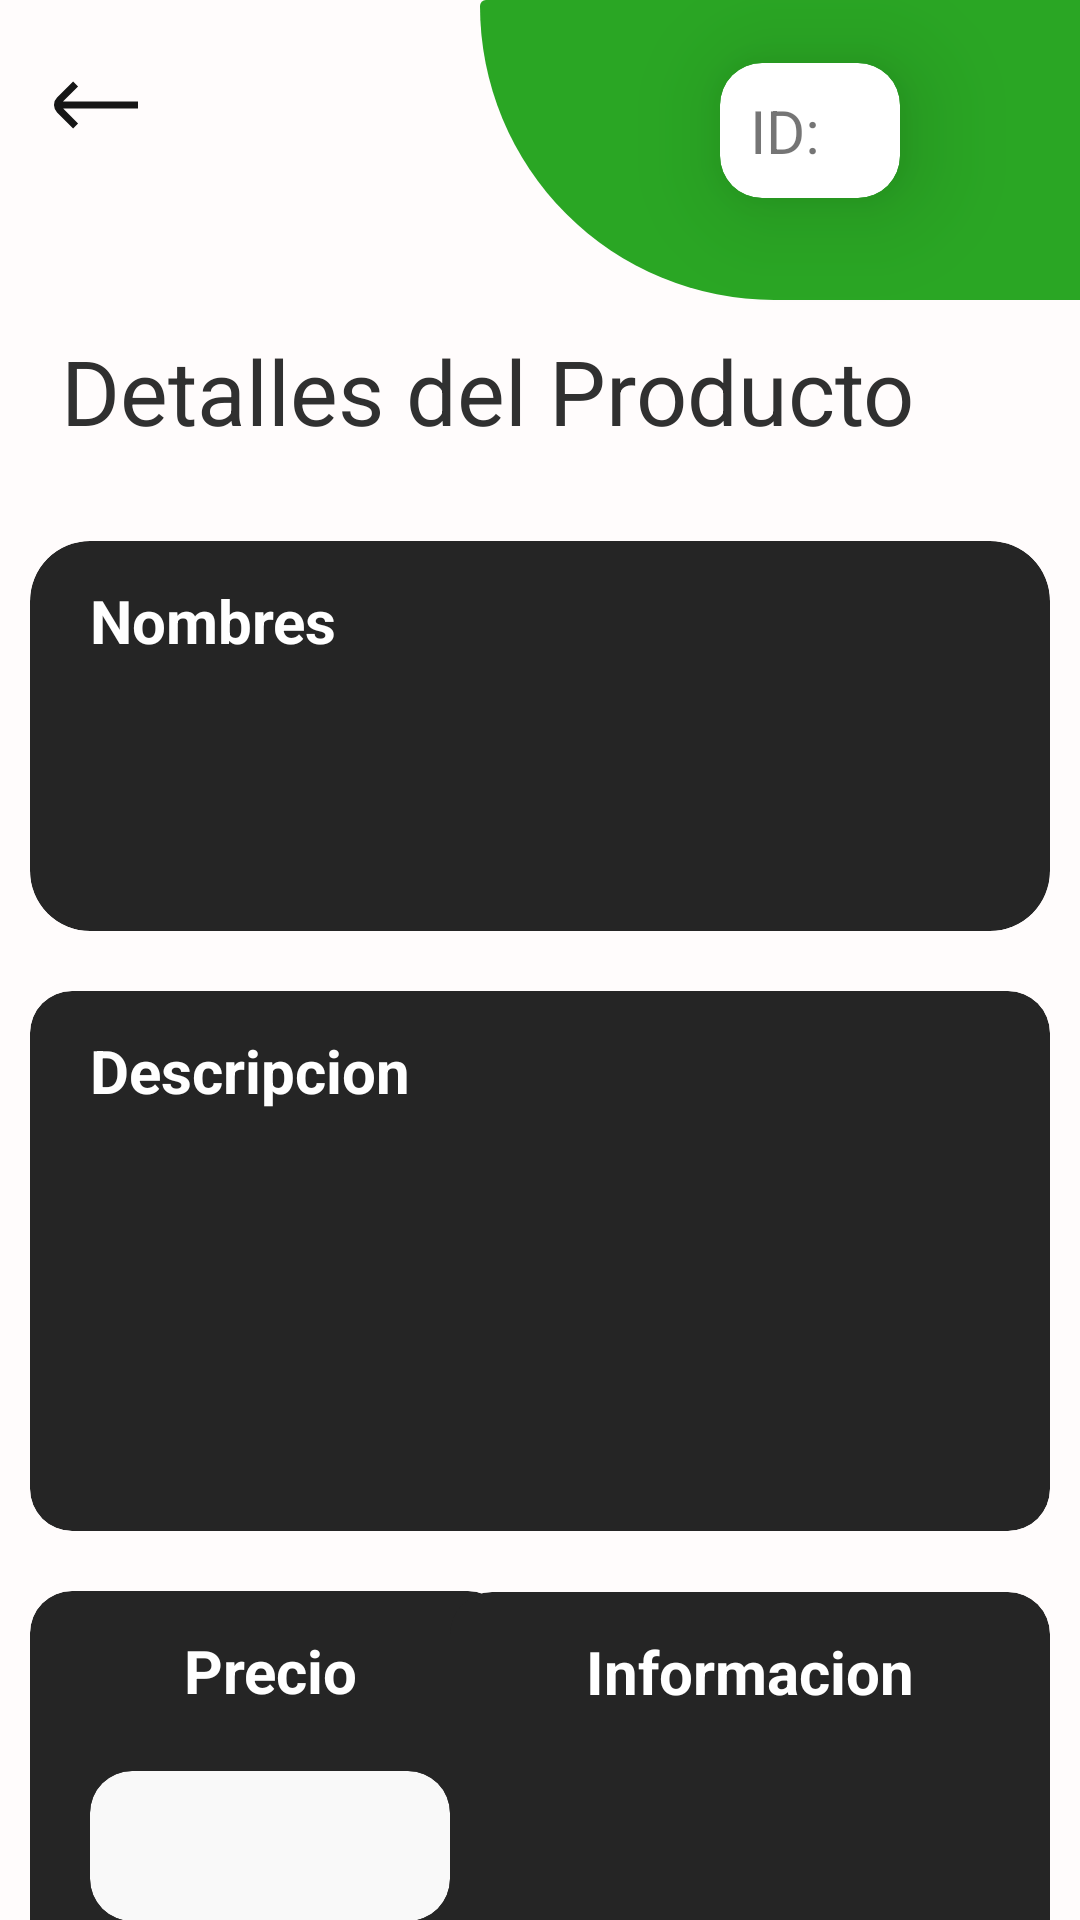

Where to tap for icons on this 1080w x 1920h app screen, as (x,y):
arrow left: (96,105)
